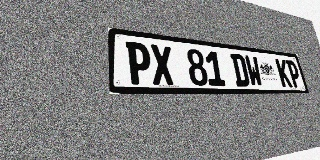1: (204, 50, 226, 86)
8: (186, 48, 209, 86)
D: (230, 53, 250, 86)
K: (275, 59, 293, 87)
P: (126, 41, 152, 85), (285, 60, 303, 87)
W: (244, 55, 264, 87)
X: (150, 44, 175, 85)
